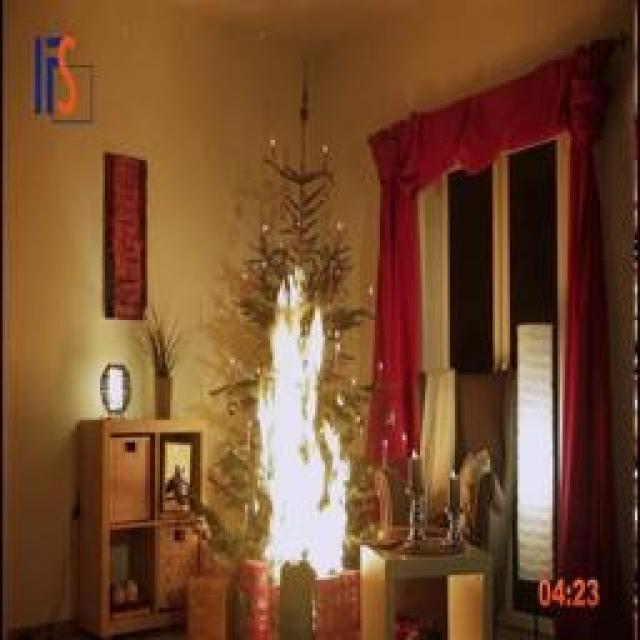fire: (224, 251, 381, 581)
